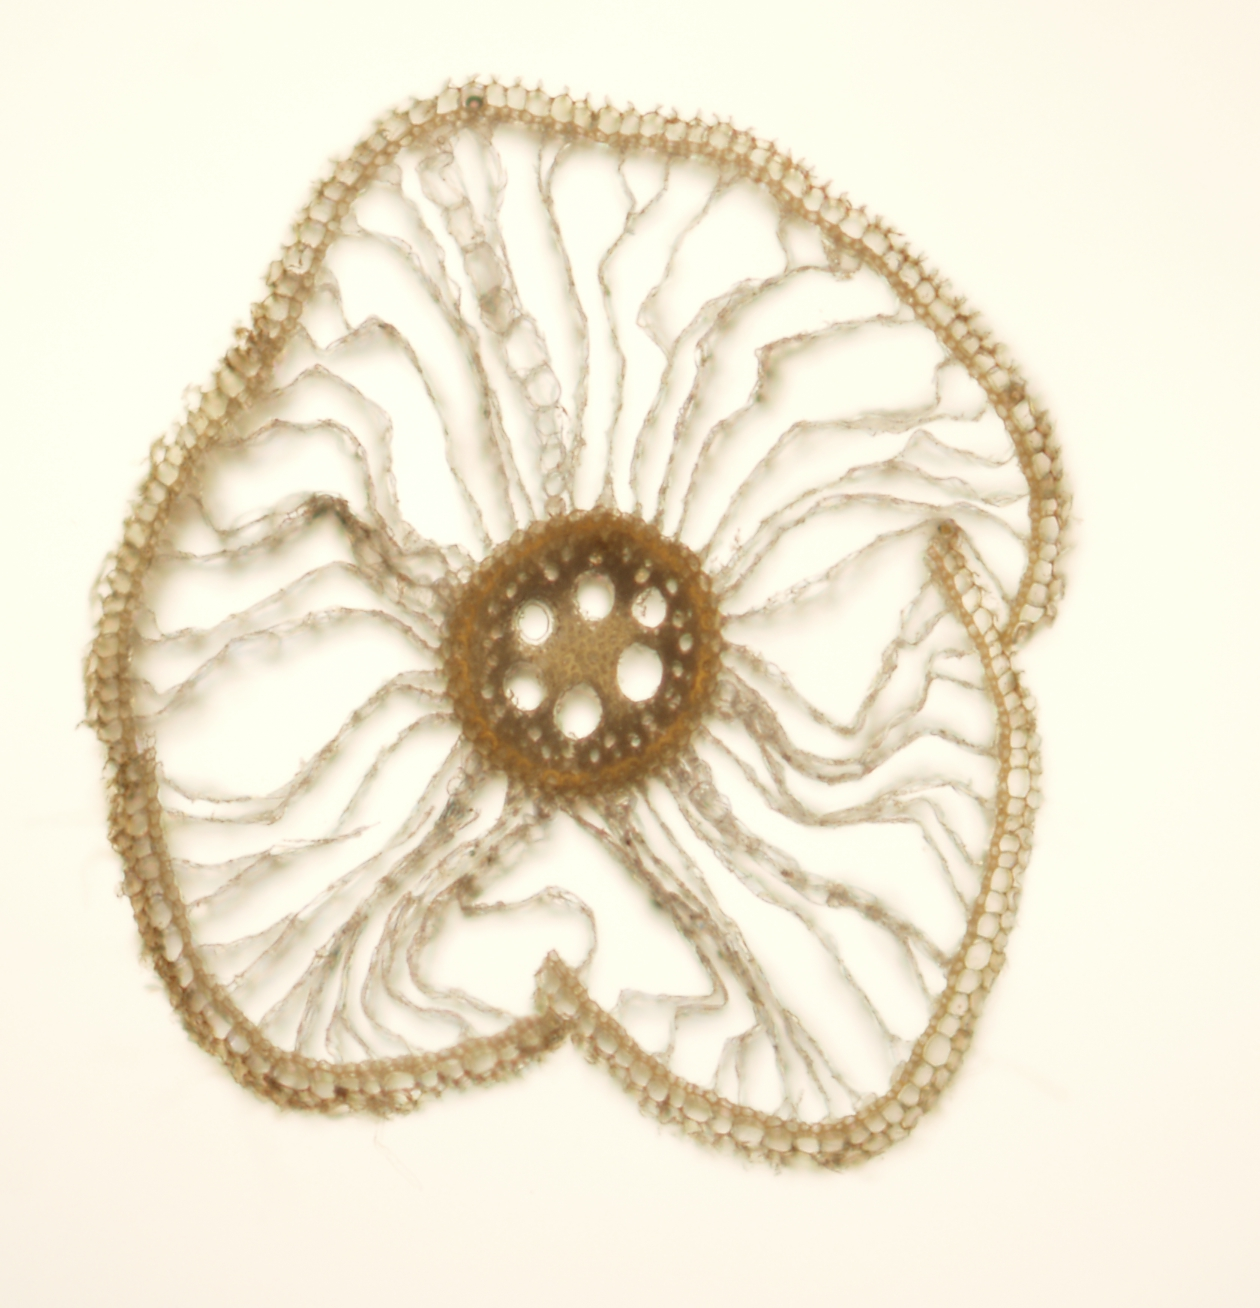lm: (552, 681, 603, 740), (617, 642, 663, 702), (571, 570, 617, 622), (503, 661, 549, 711), (513, 600, 551, 643), (631, 586, 667, 628)
